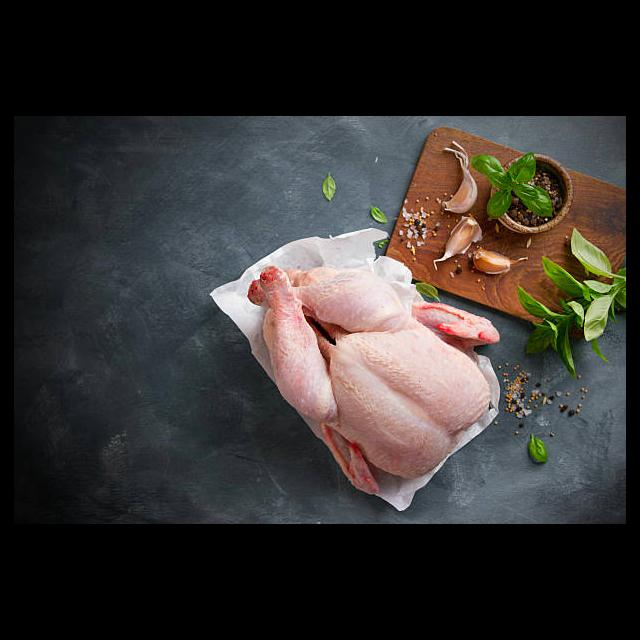chicken: (247, 268, 501, 496)
